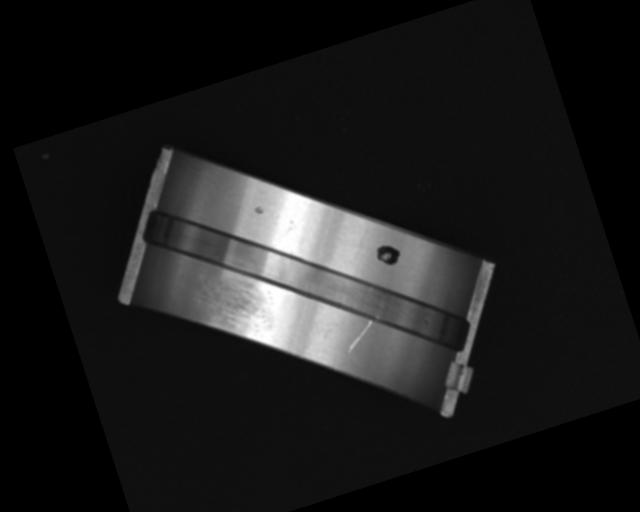blot: (372, 239, 404, 271)
bruise: (253, 205, 265, 217)
gap: (136, 132, 477, 433)
nick: (339, 318, 378, 352), (345, 227, 376, 261)
scratch: (187, 265, 281, 356)
